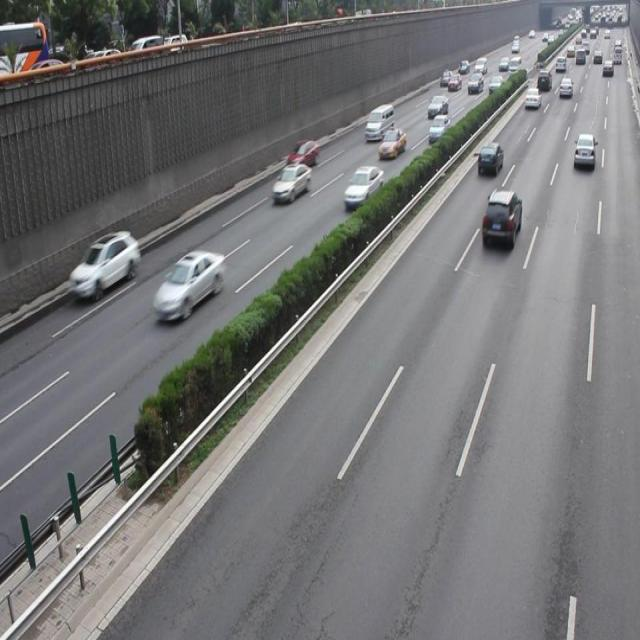car: (152, 249, 225, 321), (67, 230, 140, 300), (479, 188, 521, 248), (342, 165, 383, 207), (271, 162, 310, 203), (285, 138, 318, 170), (476, 141, 503, 177), (376, 128, 405, 159)
